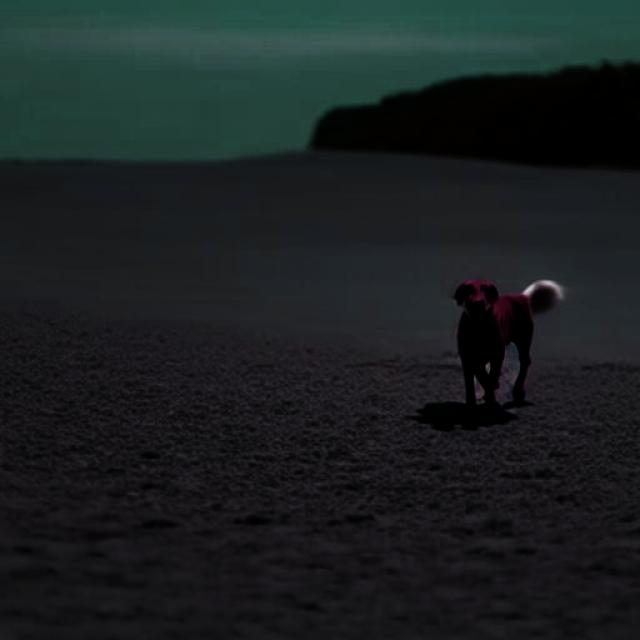Dog: (453, 278, 566, 408)
